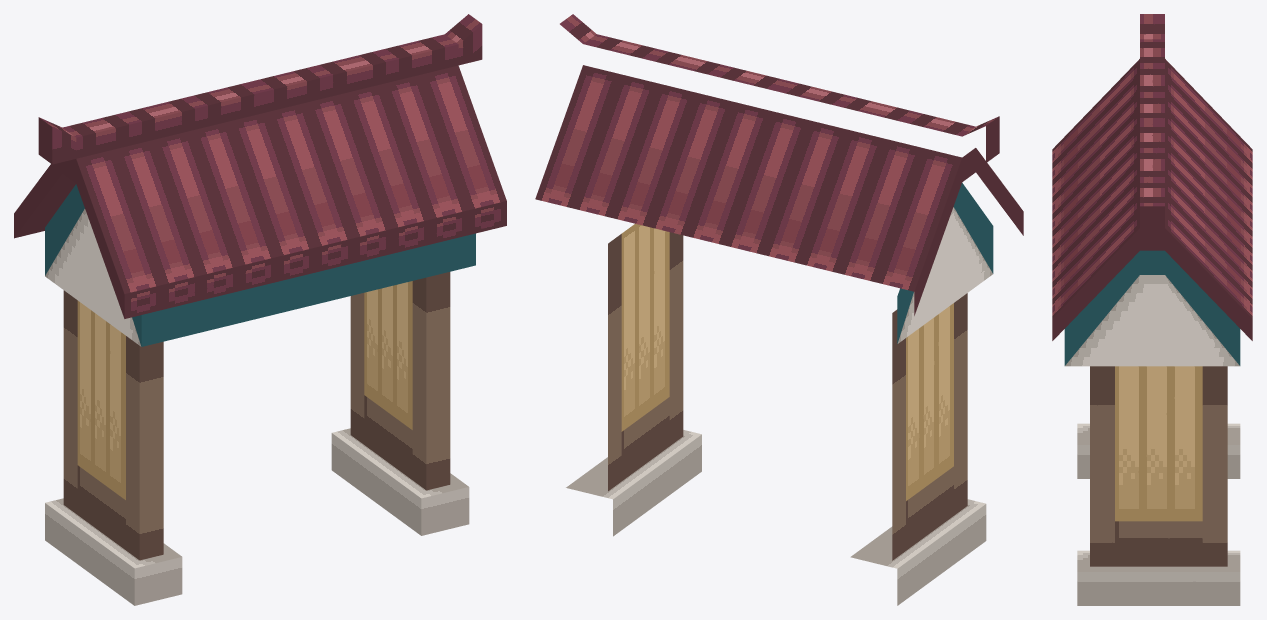
3 renders of one model, left to right at view 1: azimuth 30°, elevation 25°; view 2: azimuth 150°, elevation 25°; view 3: azimuth 270°, elevation 25°, orthographic. The views are drawn at different scales.
Size of the model in its own units: 4.5 by 4.65 by 2.
Materials: 1 (1 with a texture image).
